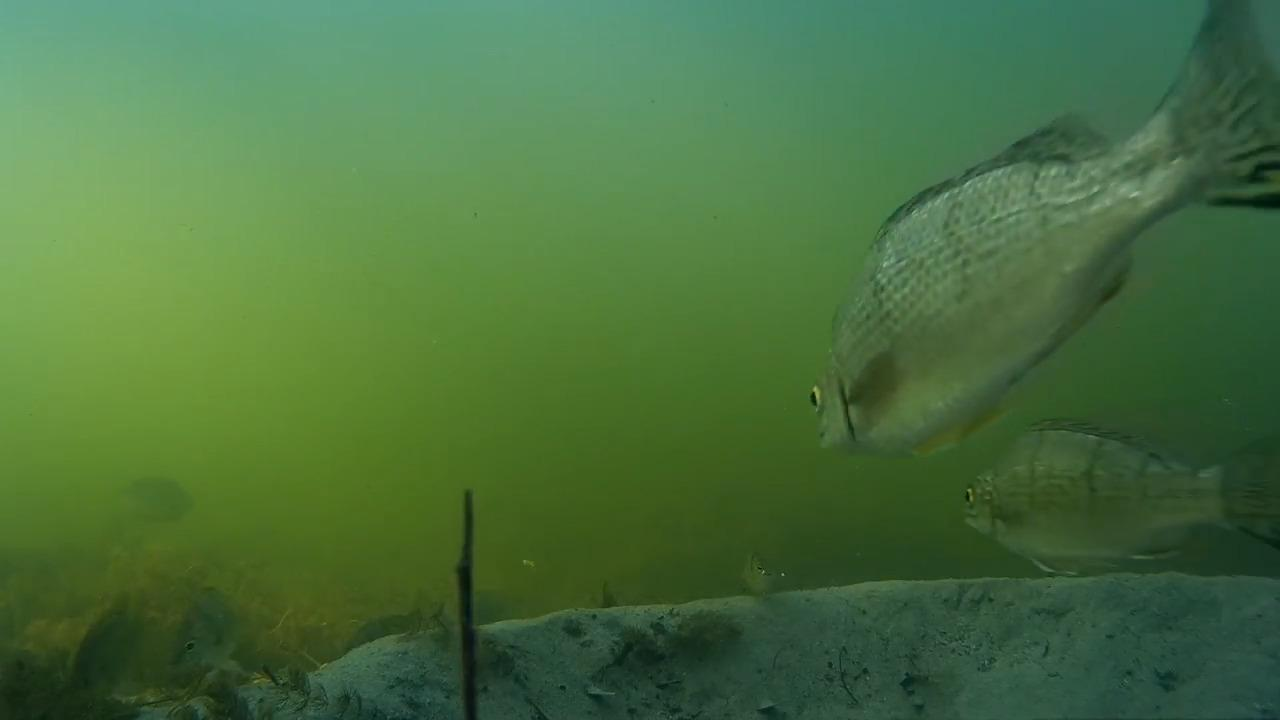Tilapia: (800, 14, 1280, 489), (951, 422, 1259, 570)
